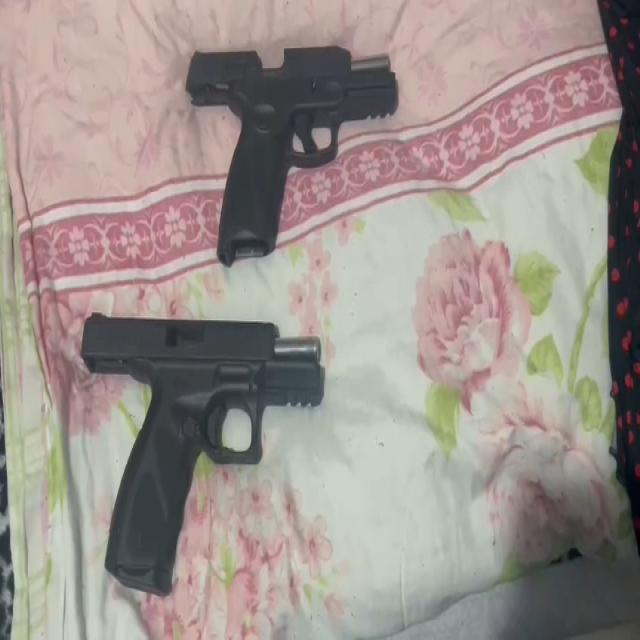gun: (80, 312, 326, 590), (185, 48, 398, 258)
